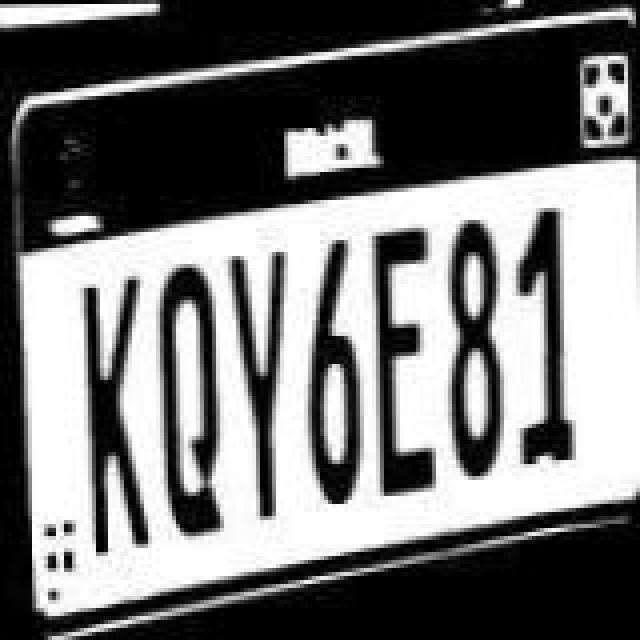1: (510, 206, 582, 466)
6: (300, 228, 368, 508)
8: (442, 216, 514, 484)
E: (362, 222, 442, 494)
K: (80, 264, 152, 552)
Q: (158, 262, 226, 542)
Y: (230, 240, 306, 528)
